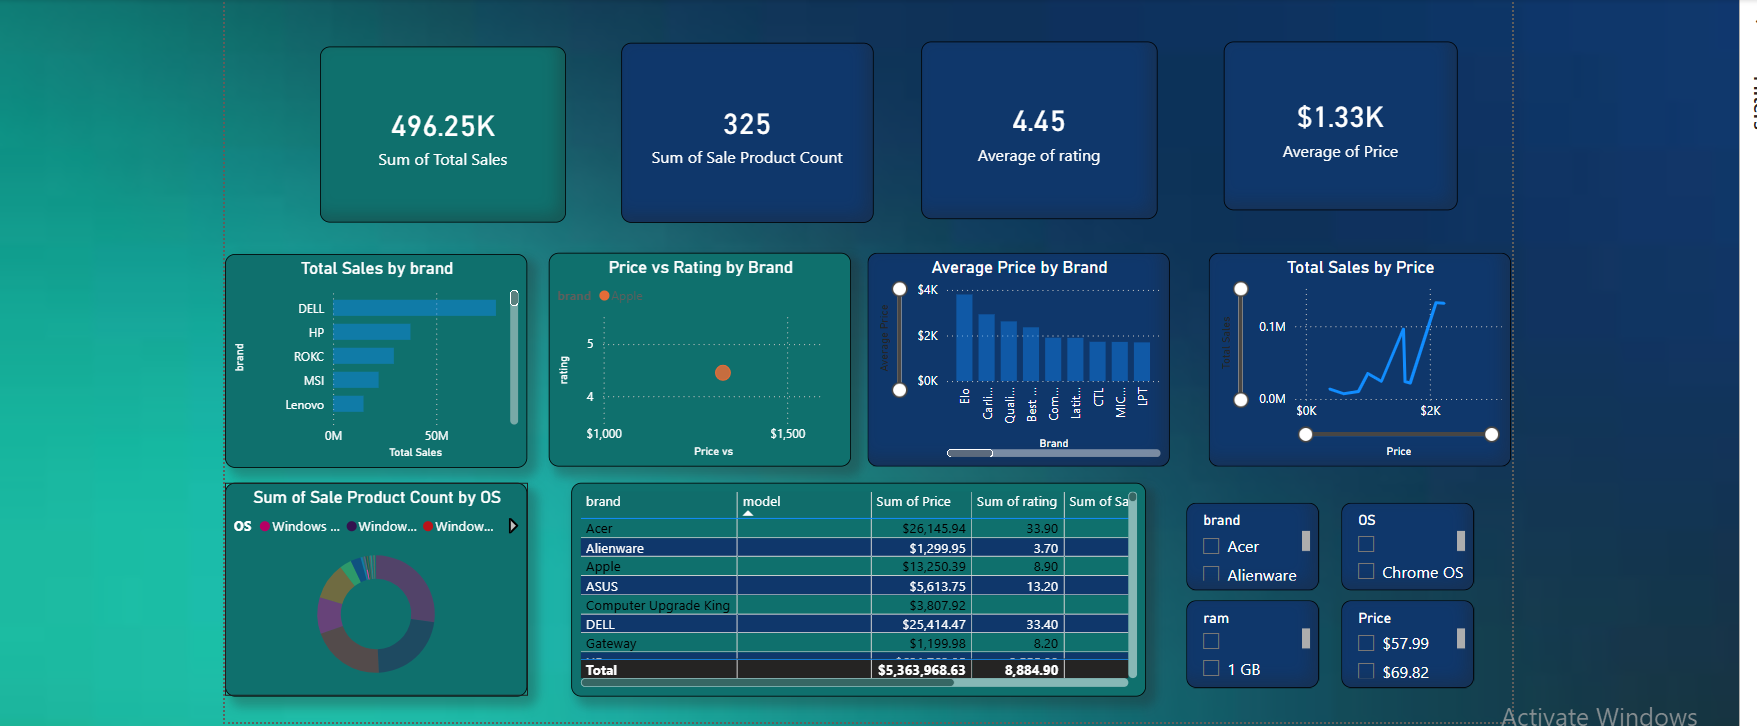

The dashboard page shown, as its layout file describes it:
{"tool":"powerbi","page":{"name":"Page 1","canvas":[1280,720],"ordinal":0},"visuals":[{"type":"card","fields":{"Values":["Avg(amazon_laptop_prices_v01 (1).Price)"]},"box":[993.9,42.3,232.6,167.9],"z":3},{"type":"clusteredBarChart","fields":{"Category":["amazon_laptop_prices_v01 (1).brand"],"Y":["Sum(amazon_laptop_prices_v01 (1).Total Sales)"]},"box":[0,253.8,301,212.7],"z":4},{"type":"clusteredColumnChart","fields":{"Category":["amazon_laptop_prices_v01 (1).brand"],"Y":["Avg(amazon_laptop_prices_v01 (1).Price)"]},"box":[639.4,252.5,301,212.7],"z":5},{"type":"lineChart","fields":{"Y":["Sum(amazon_laptop_prices_v01 (1).Total Sales)"],"Category":["amazon_laptop_prices_v01 (1).Price"]},"box":[979,252.5,301,212.7],"z":6},{"type":"donutChart","fields":{"Category":["amazon_laptop_prices_v01 (1).OS"],"Y":["Sum(amazon_laptop_prices_v01 (1).Sale Product Count)"]},"box":[0,481.4,301,212.7],"z":7},{"type":"scatterChart","title":"Price vs Rating by Brand","fields":{"X":["Avg(amazon_laptop_prices_v01 (1).Price)"],"Y":["Avg(amazon_laptop_prices_v01 (1).rating)"],"Size":["Sum(amazon_laptop_prices_v01 (1).Sale Product Count)"],"Series":["amazon_laptop_prices_v01 (1).brand"]},"box":[322.2,252.5,301,212.7],"z":8},{"type":"card","fields":{"Values":["Avg(amazon_laptop_prices_v01 (1).rating)"]},"box":[692.9,42.3,235.1,176.6],"z":9},{"type":"card","fields":{"Values":["Sum(amazon_laptop_prices_v01 (1).Sale Product Count)"]},"box":[394.3,43.5,251.3,179.1],"z":10},{"type":"card","fields":{"Values":["Sum(amazon_laptop_prices_v01 (1).Total Sales)"]},"box":[94.5,47.3,245.1,175.4],"z":11},{"type":"tableEx","fields":{"Values":["amazon_laptop_prices_v01 (1).brand","amazon_laptop_prices_v01 (1).model","Sum(amazon_laptop_prices_v01 (1).Price)","Sum(amazon_laptop_prices_v01 (1).rating)","Sum(amazon_laptop_prices_v01 (1).Sale Product Count)","Sum(amazon_laptop_prices_v01 (1).Available Stock)"]},"box":[344.6,481.4,572.2,212.7],"z":12},{"type":"slicer","fields":{"Values":["amazon_laptop_prices_v01 (1).brand"]},"box":[956.6,501.3,131.9,87.1],"z":13},{"type":"slicer","fields":{"Values":["amazon_laptop_prices_v01 (1).OS"]},"box":[1110.9,501.3,131.9,87.1],"z":14},{"type":"slicer","fields":{"Values":["amazon_laptop_prices_v01 (1).Price"]},"box":[1110.9,598.3,131.9,87.1],"z":15},{"type":"slicer","fields":{"Values":["amazon_laptop_prices_v01 (1).ram"]},"box":[956.6,598.3,131.9,87.1],"z":16}]}

Visuals, with their boxes on the page's 1280x720 design canvas (x1, y1, x2, y2). These are canvas units, not pixel positions in the 1757x726 screenshot, which may show the page scaled, cropped or inside an application window:
card - Avg(amazon_laptop_prices_v01 (1).Price): Rect(994, 42, 1226, 210)
clusteredBarChart - amazon_laptop_prices_v01 (1).brand x Sum(amazon_laptop_prices_v01 (1).Total Sales): Rect(0, 254, 301, 466)
clusteredColumnChart - amazon_laptop_prices_v01 (1).brand x Avg(amazon_laptop_prices_v01 (1).Price): Rect(639, 252, 940, 465)
lineChart - Sum(amazon_laptop_prices_v01 (1).Total Sales) x amazon_laptop_prices_v01 (1).Price: Rect(979, 252, 1280, 465)
donutChart - amazon_laptop_prices_v01 (1).OS x Sum(amazon_laptop_prices_v01 (1).Sale Product Count): Rect(0, 481, 301, 694)
"Price vs Rating by Brand" scatterChart: Rect(322, 252, 623, 465)
card - Avg(amazon_laptop_prices_v01 (1).rating): Rect(693, 42, 928, 219)
card - Sum(amazon_laptop_prices_v01 (1).Sale Product Count): Rect(394, 44, 646, 223)
card - Sum(amazon_laptop_prices_v01 (1).Total Sales): Rect(94, 47, 340, 223)
tableEx - amazon_laptop_prices_v01 (1).brand x amazon_laptop_prices_v01 (1).model: Rect(345, 481, 917, 694)
slicer - amazon_laptop_prices_v01 (1).brand: Rect(957, 501, 1088, 588)
slicer - amazon_laptop_prices_v01 (1).OS: Rect(1111, 501, 1243, 588)
slicer - amazon_laptop_prices_v01 (1).Price: Rect(1111, 598, 1243, 685)
slicer - amazon_laptop_prices_v01 (1).ram: Rect(957, 598, 1088, 685)
